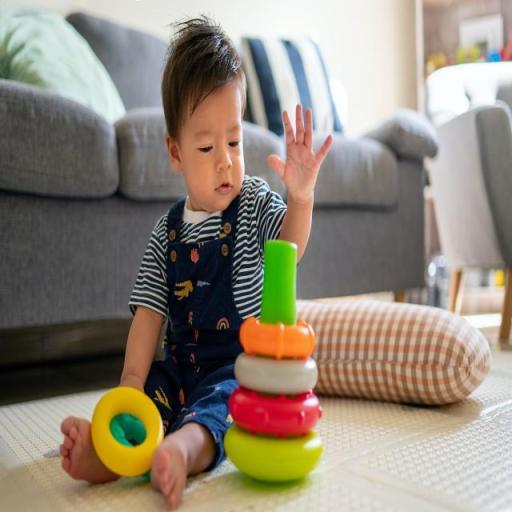baby: (60, 23, 325, 512)
